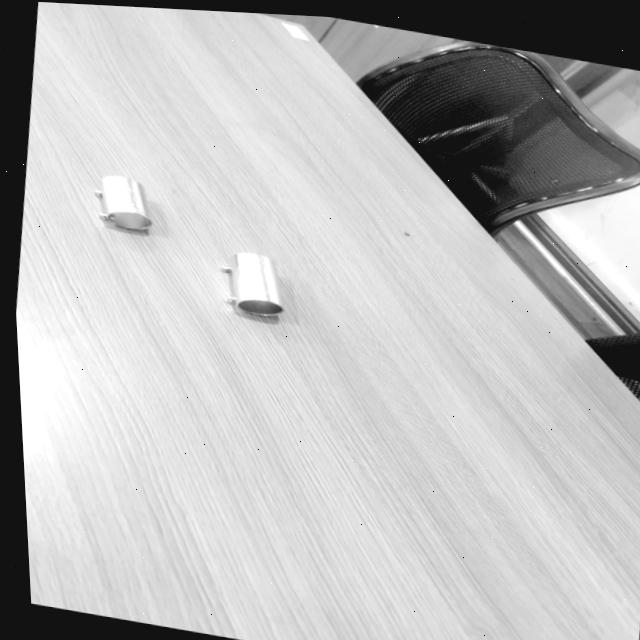Co_Lon: (215, 245, 283, 325)
Co_Nho: (91, 168, 152, 239)
